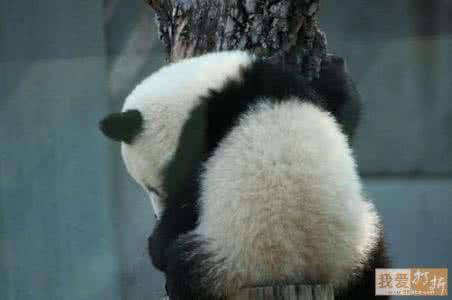panda: (104, 55, 393, 300)
